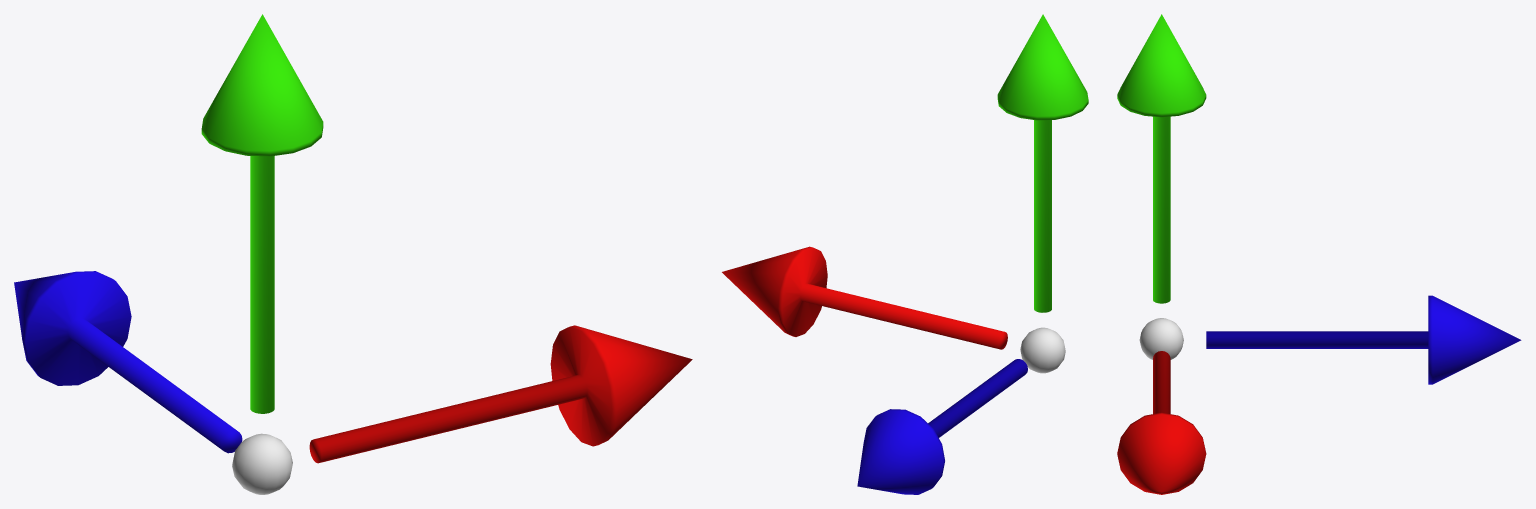
The model's file is translate_mesh.glb.
3 views of the same model, side by side, from view 1: azimuth 30°, elevation 25°; view 2: azimuth 150°, elevation 25°; view 3: azimuth 270°, elevation 25° (orthographic). The views are drawn at different scales.
Parts seen in each view (by area): view 1: Y, X, Z, Free; view 2: X, Y, Z, Free; view 3: Y, Z, X, Free.
Part boxes in pixels (x1,y1,x2,y2): Y: [201, 14, 323, 413]; X: [309, 325, 692, 463]; Z: [14, 271, 242, 453]; Free: [232, 433, 292, 494]; X: [722, 246, 1007, 349]; Y: [997, 14, 1088, 312]; Z: [857, 359, 1027, 494]; Free: [1020, 327, 1065, 373]; Y: [1117, 14, 1206, 303]; Z: [1206, 295, 1521, 384]; X: [1117, 351, 1206, 494]; Free: [1139, 318, 1183, 359].
Bounding box in the file's own units: 9.1 × 9.1 × 9.1.
